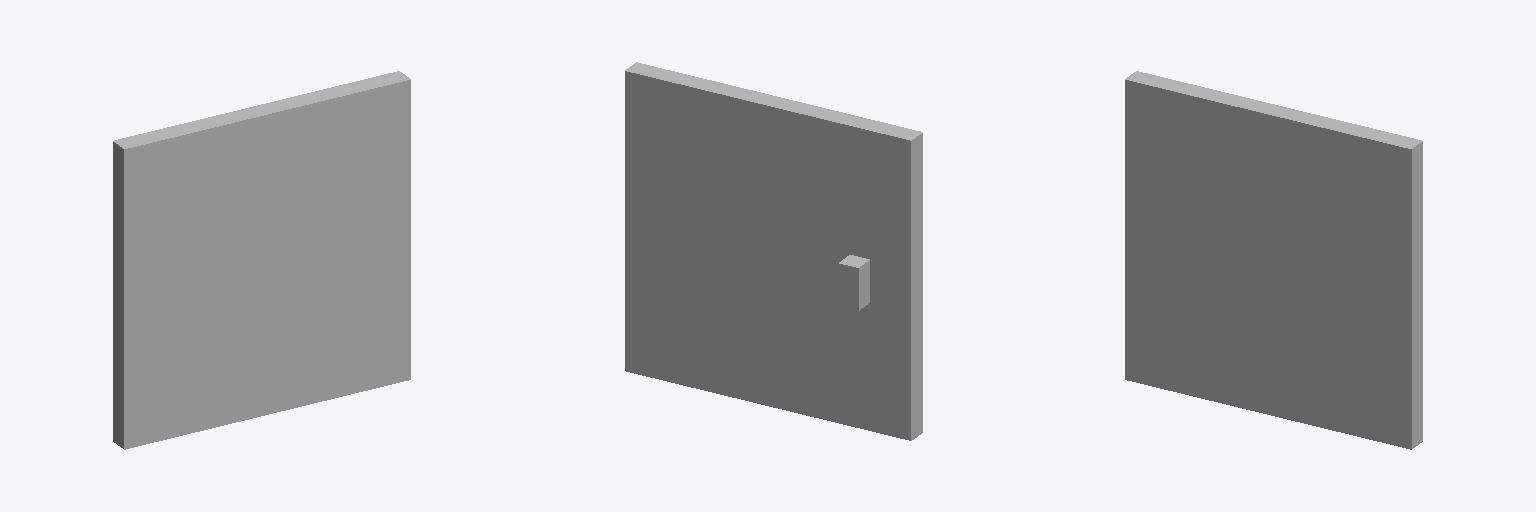
File: locker_door_left.obj
The picture shows the model from 3 angles: view 1: azimuth 30°, elevation 25°; view 2: azimuth 150°, elevation 25°; view 3: azimuth 330°, elevation 25°; orthographic projection.
Visible parts, largest first — view 1: locker_door_left; view 2: locker_door_left; view 3: locker_door_left.
Part boxes in pixels (x1,y1,x2,y2): locker_door_left: (113,71,410,449); locker_door_left: (625,62,922,440); locker_door_left: (1125,71,1422,449).
Size of the model in its own units: 0.875 by 0.875 by 0.125.